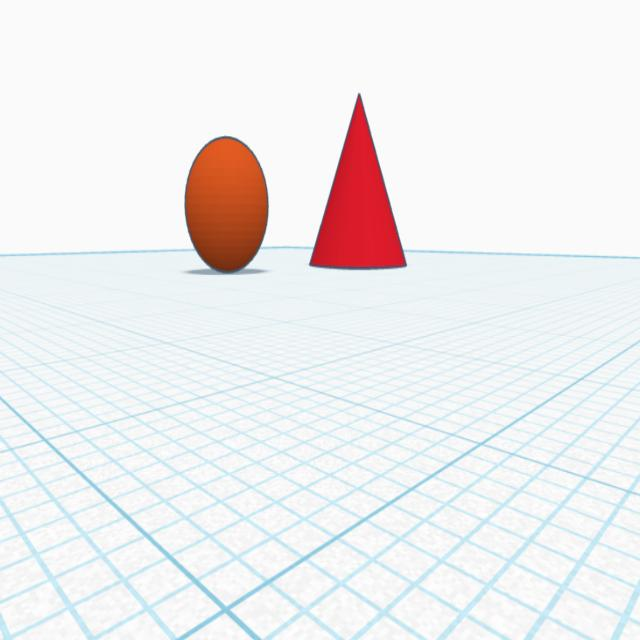cone: (307, 87, 408, 274)
sphere: (182, 128, 272, 280)
